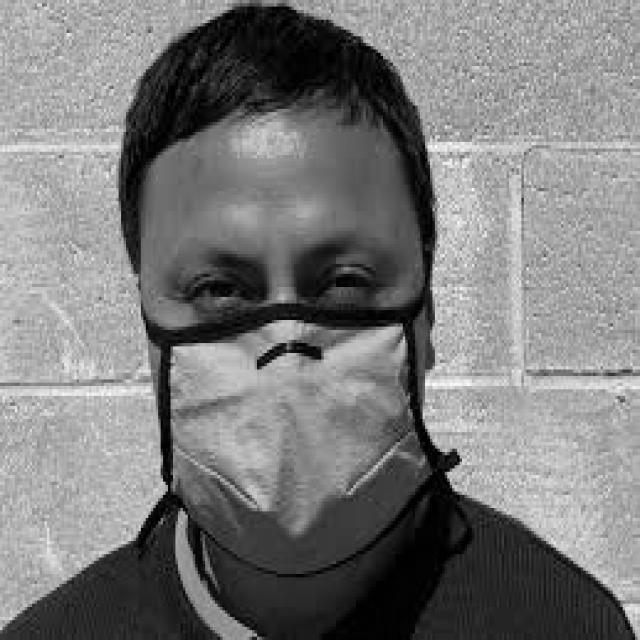fake: (152, 300, 461, 579)
real: (131, 119, 440, 561)
